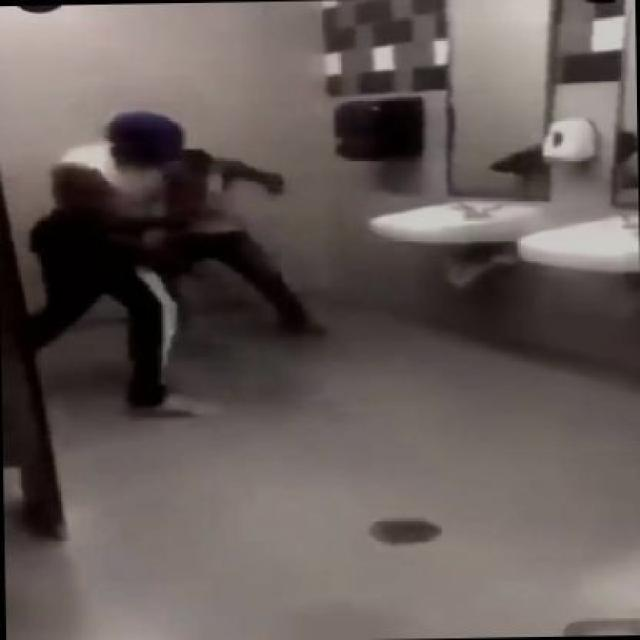fight: (17, 112, 326, 420)
